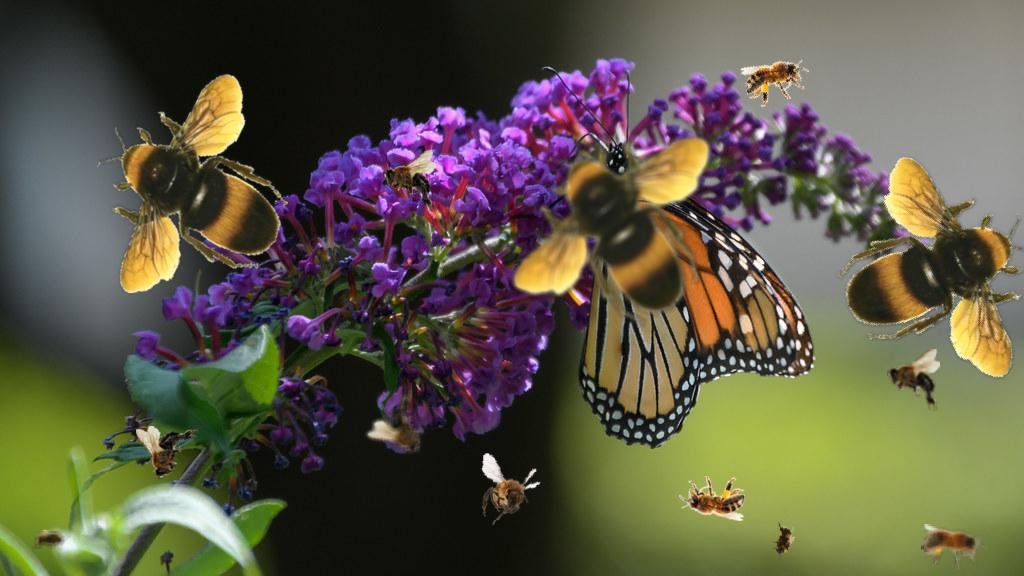Bee: (487, 78, 759, 361), (799, 134, 1024, 421), (97, 73, 288, 293), (362, 388, 445, 470), (472, 452, 545, 532), (738, 47, 816, 112), (382, 149, 437, 213), (887, 349, 940, 411), (136, 426, 198, 479), (921, 524, 987, 569), (679, 476, 745, 521), (766, 518, 800, 564), (30, 529, 70, 551)
